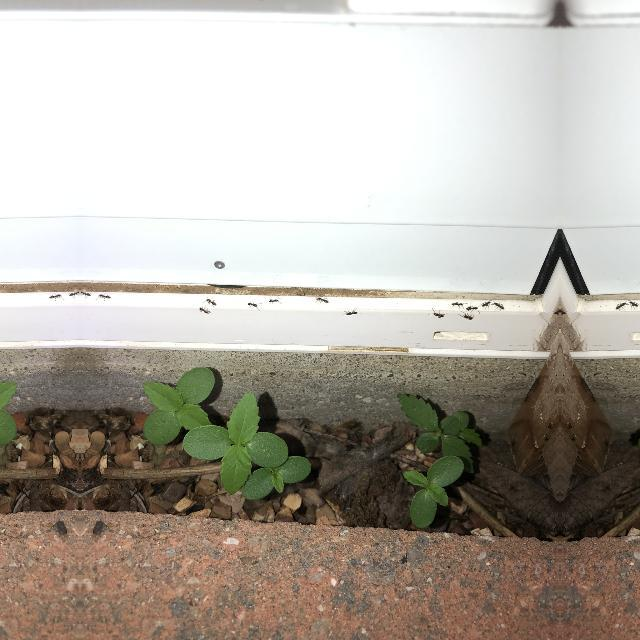Tapinoma: (314, 293, 328, 305), (344, 308, 360, 318), (430, 310, 444, 320), (248, 301, 260, 311), (198, 306, 210, 316), (480, 298, 490, 310), (628, 298, 640, 308), (462, 311, 473, 321), (496, 302, 506, 312), (208, 296, 218, 306), (431, 326, 441, 336), (614, 302, 624, 312), (266, 297, 280, 303), (97, 293, 111, 299), (49, 293, 63, 299), (80, 290, 90, 298), (70, 290, 80, 298), (468, 304, 477, 312), (452, 301, 464, 307)
